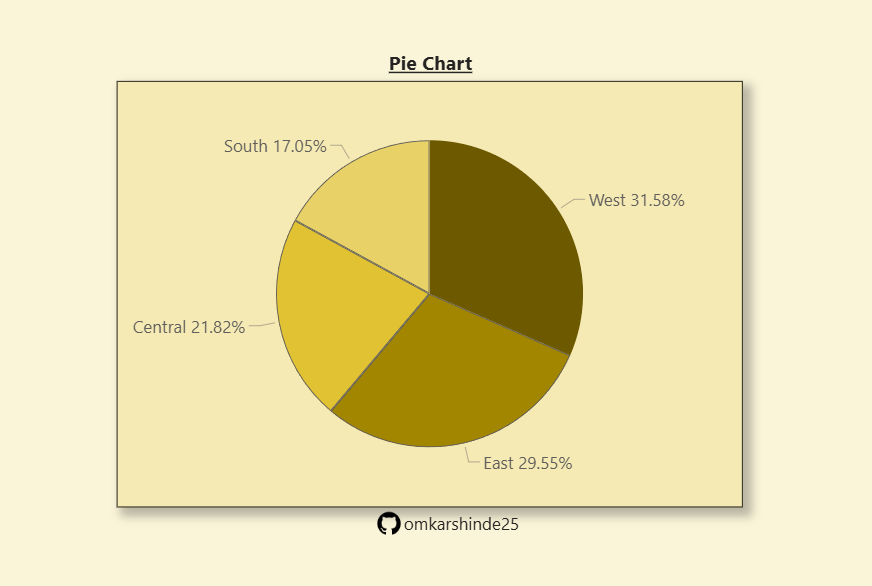

The page's visual inventory and layout, read from the dashboard file:
{"tool":"powerbi","page":{"name":"Pie Chart","canvas":[1280,720],"ordinal":3},"visuals":[{"type":"pieChart","fields":{"Category":["Orders.Region"],"Y":["Sum(Orders.Sales)"]},"box":[295,126.2,687.5,467.9],"z":0},{"type":"textbox","box":[588.7,86.4,691.6,39.8],"z":1000},{"type":"textbox","box":[605.1,594.2,247,45.3],"z":2000},{"type":"image","box":[566.8,594.3,54.6,35.7],"z":3000}]}

Visuals, with their boxes on the page's 1280x720 design canvas (x1, y1, x2, y2). These are canvas units, not pixel positions in the 872x586 screenshot, which may show the page scaled, cropped or inside an application window:
pieChart - Orders.Region x Sum(Orders.Sales): left=295, top=126, right=982, bottom=594
textbox: left=589, top=86, right=1280, bottom=126
textbox: left=605, top=594, right=852, bottom=640
image: left=567, top=594, right=621, bottom=630
